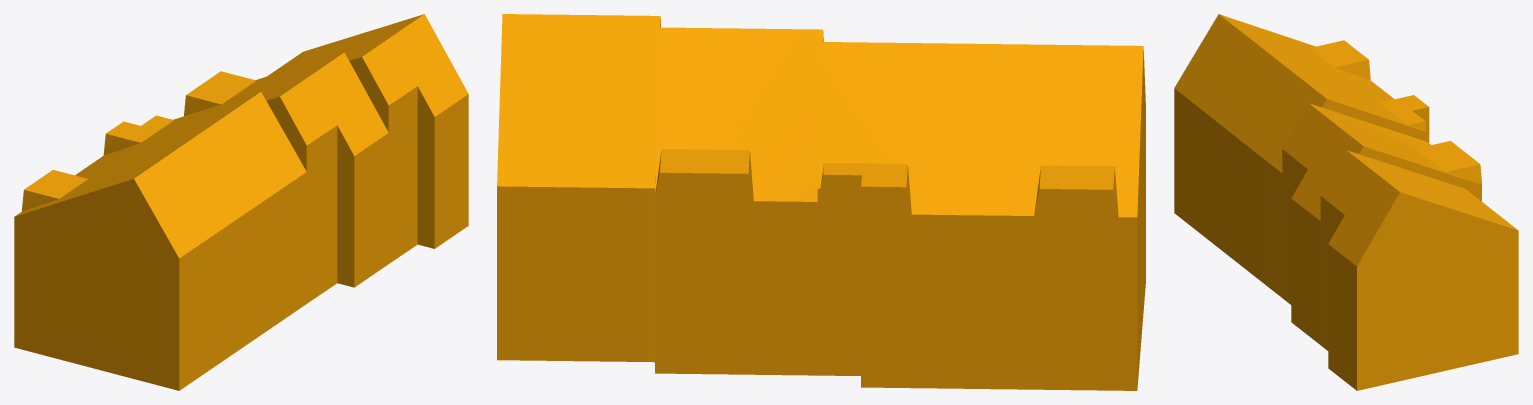
Rendered from DEHB01ALs0000gli.gltf.
The picture shows the model from 3 angles, left to right: view 1: azimuth 30°, elevation 25°; view 2: azimuth 150°, elevation 25°; view 3: azimuth 270°, elevation 25°; orthographic projection. The views are drawn at different scales.
Parts seen in each view (by area): view 1: Z_UP; view 2: Z_UP; view 3: Z_UP.
Part boxes in pixels (<box>): Z_UP: <box>14,14,468,390</box>; Z_UP: <box>497,14,1145,390</box>; Z_UP: <box>1174,14,1518,390</box>.
Size of the model in its own units: 39.7 by 16.33 by 26.96.
